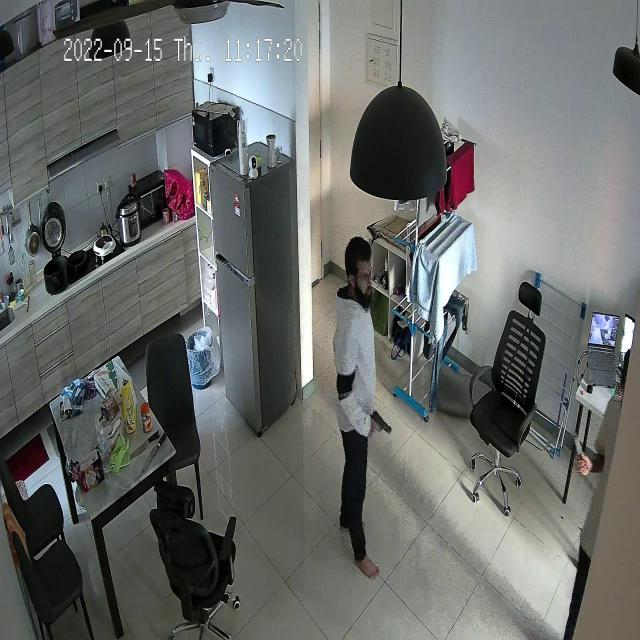Gun: (358, 402, 398, 448)
